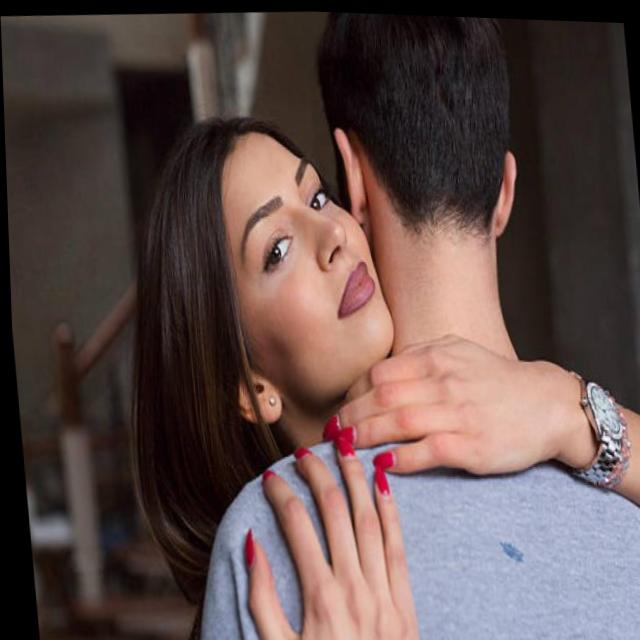no helmet: (320, 9, 534, 251)
